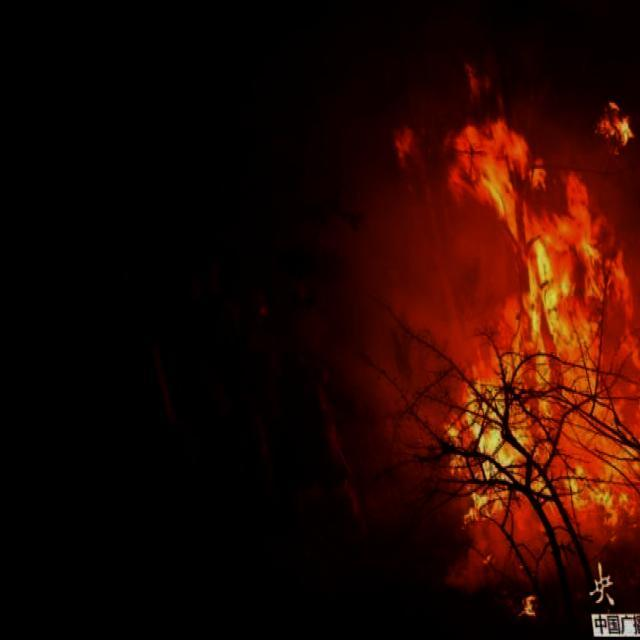Fire: (399, 67, 639, 546)
